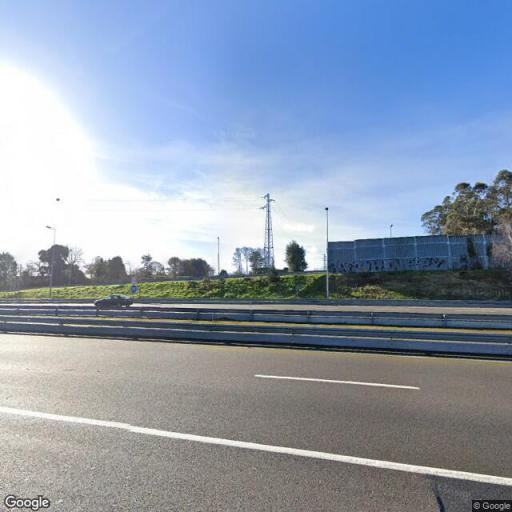ss_4: (258, 192, 280, 270)
